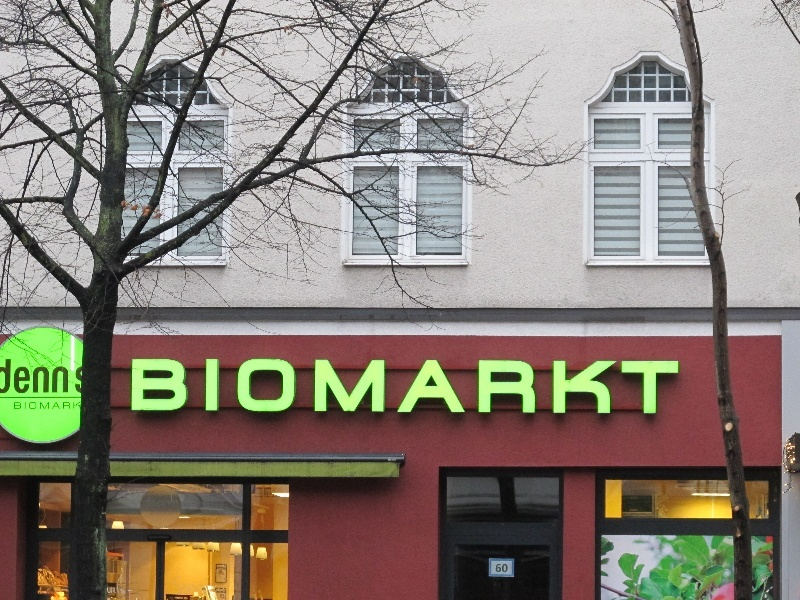text: (145, 359, 160, 416), (161, 359, 176, 416), (177, 359, 192, 416), (193, 359, 208, 416), (209, 359, 224, 416), (225, 359, 240, 416), (241, 359, 256, 416), (257, 359, 272, 416), (273, 359, 288, 416), (289, 359, 304, 416), (305, 359, 320, 416), (321, 359, 336, 416), (337, 359, 352, 416), (353, 359, 368, 416), (369, 359, 384, 416), (385, 359, 400, 416), (401, 359, 416, 416), (417, 359, 432, 416), (433, 359, 448, 416), (449, 359, 464, 416), (465, 359, 480, 416), (481, 359, 496, 416), (497, 359, 512, 416), (513, 359, 528, 416), (529, 359, 544, 416), (545, 359, 560, 416), (561, 359, 576, 416), (577, 359, 592, 416), (593, 359, 608, 416), (609, 359, 624, 416), (625, 359, 640, 416), (641, 359, 656, 416), (657, 359, 672, 416), (673, 359, 688, 416), (131, 359, 144, 416), (1, 358, 16, 395), (17, 358, 32, 395), (33, 358, 48, 395), (49, 358, 64, 395), (65, 358, 80, 395), (113, 586, 128, 596), (65, 402, 81, 410), (17, 402, 32, 410), (33, 402, 48, 410), (49, 402, 64, 410), (497, 565, 509, 574), (81, 358, 83, 395), (129, 586, 136, 596), (107, 586, 112, 596), (14, 402, 16, 410)
